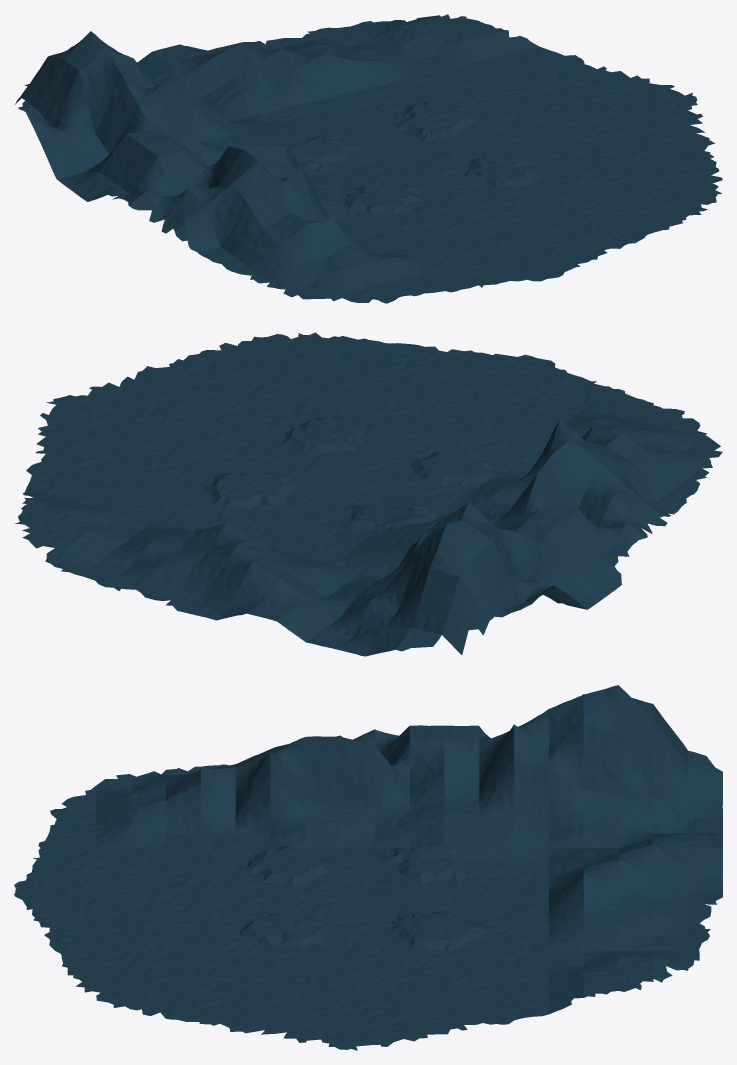
File: FinalTerrain.glb
The picture shows the model from 3 angles, top to bottom: view 1: azimuth 30°, elevation 25°; view 2: azimuth 150°, elevation 25°; view 3: azimuth 270°, elevation 25°; orthographic projection. The views are drawn at different scales.
Visible parts, largest first — view 1: Plane; view 2: Plane; view 3: Plane.
Boxes of the visible parts, <box> form: Plane: <box>15,14,722,303</box>; Plane: <box>15,332,722,656</box>; Plane: <box>14,685,722,1050</box>.
Size of the model in its own units: 198 by 31.93 by 194.
